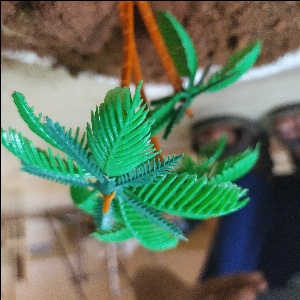plant: (5, 1, 263, 250)
